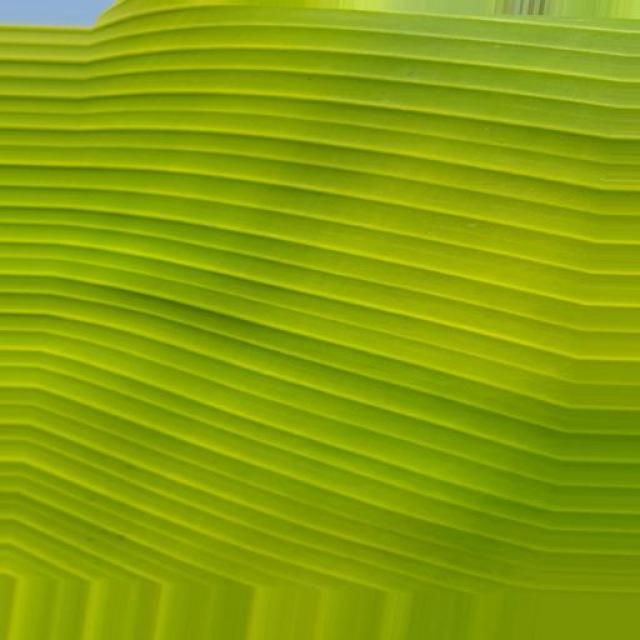Black_leaf_spot: (0, 0, 636, 580)
